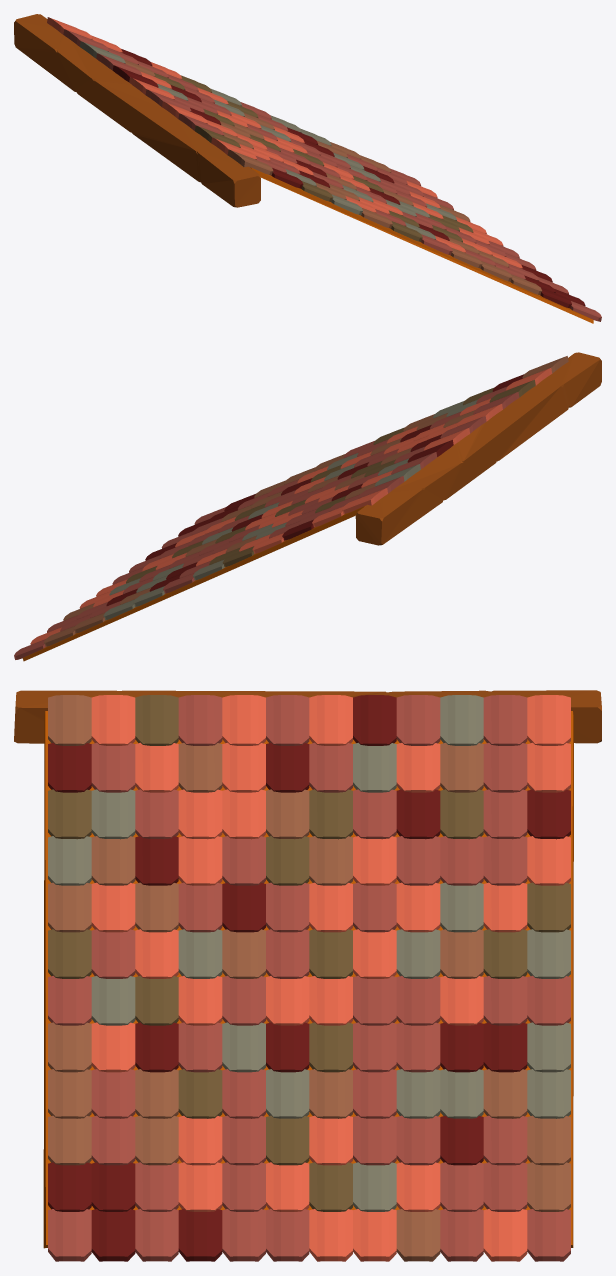
File: HalfRoof.fbx
3 views of the same model, one above another, from view 1: azimuth 30°, elevation 25°; view 2: azimuth 150°, elevation 25°; view 3: azimuth 270°, elevation 25° (orthographic). The views are drawn at different scales.
Visible parts, largest first — view 1: HalfRoof__LOD0; view 2: HalfRoof__LOD0; view 3: HalfRoof__LOD0.
Boxes of the visible parts, box(x1,y1,x2,y2) form: HalfRoof__LOD0: box(14, 14, 601, 323); HalfRoof__LOD0: box(14, 352, 601, 661); HalfRoof__LOD0: box(14, 690, 601, 1261).
Size of what is drawn, in the model's own units: 2022 by 1266 by 2019.
